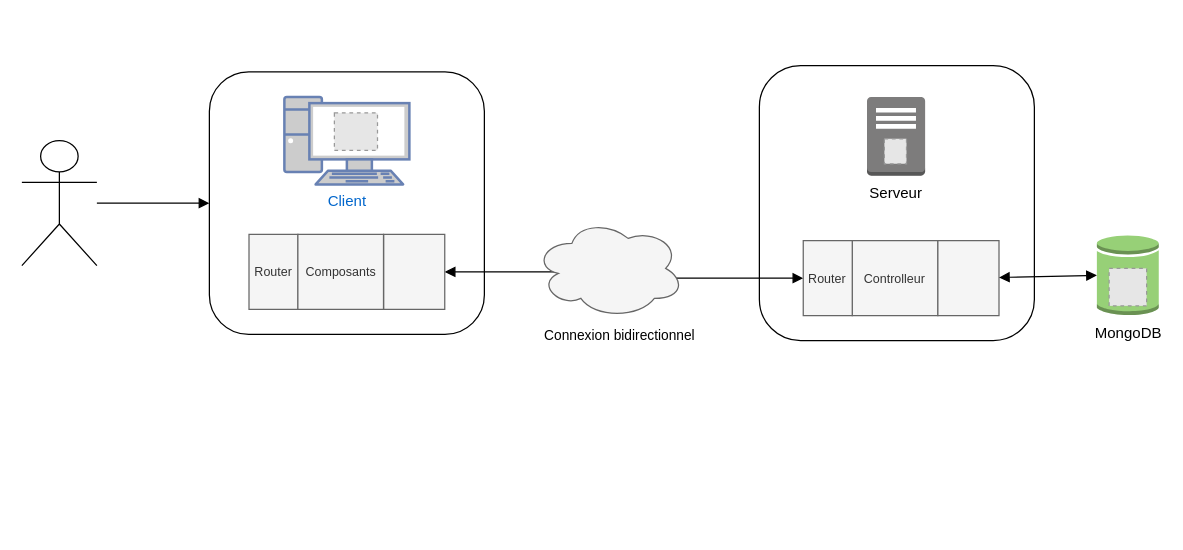
The diagram is 1183 pixels wide and 550 high, and some of its shapes have lost their labels. Grey dashed boxes stand in for pictures. The centre of each missing label's shape, as x and y in pixels:
Internet: the point at 608,267
ODM: the point at 968,277
Service: the point at 413,271
Utilisateur: the point at 59,202
